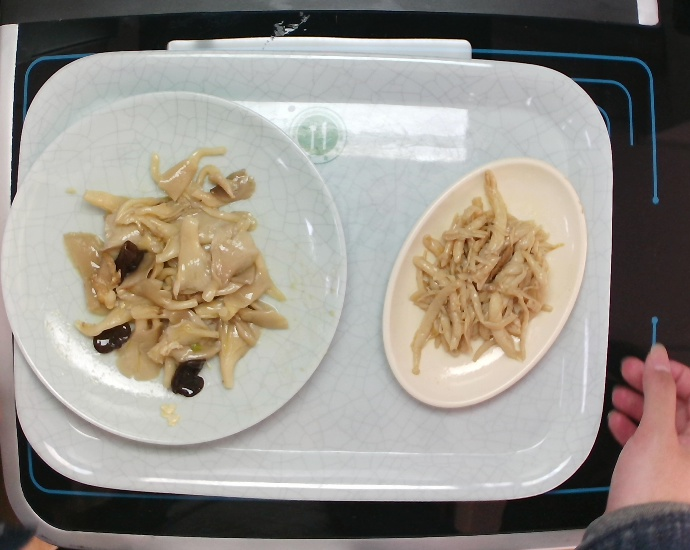JYsf-Da_Yuan_Pan: (3, 87, 349, 449)
JYsf-Tuo_Yuan_Wan: (379, 155, 592, 409)
